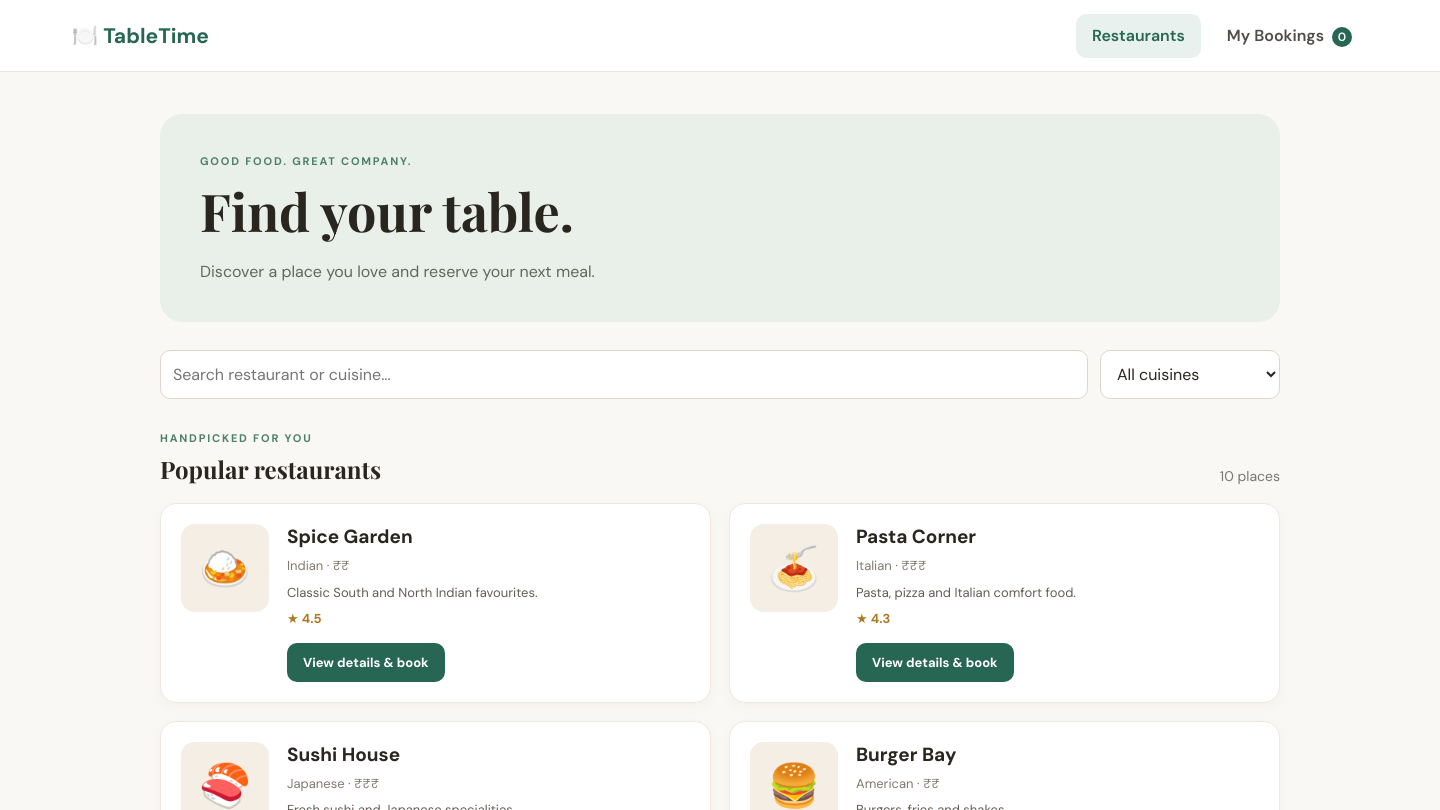
it: Restaurant Reservation Components › confirms a valid reservation and shows it in My Bookings
Click the button "View details & book" below "Spice Garden". click: click(366, 662)
box: [287, 642, 445, 682]
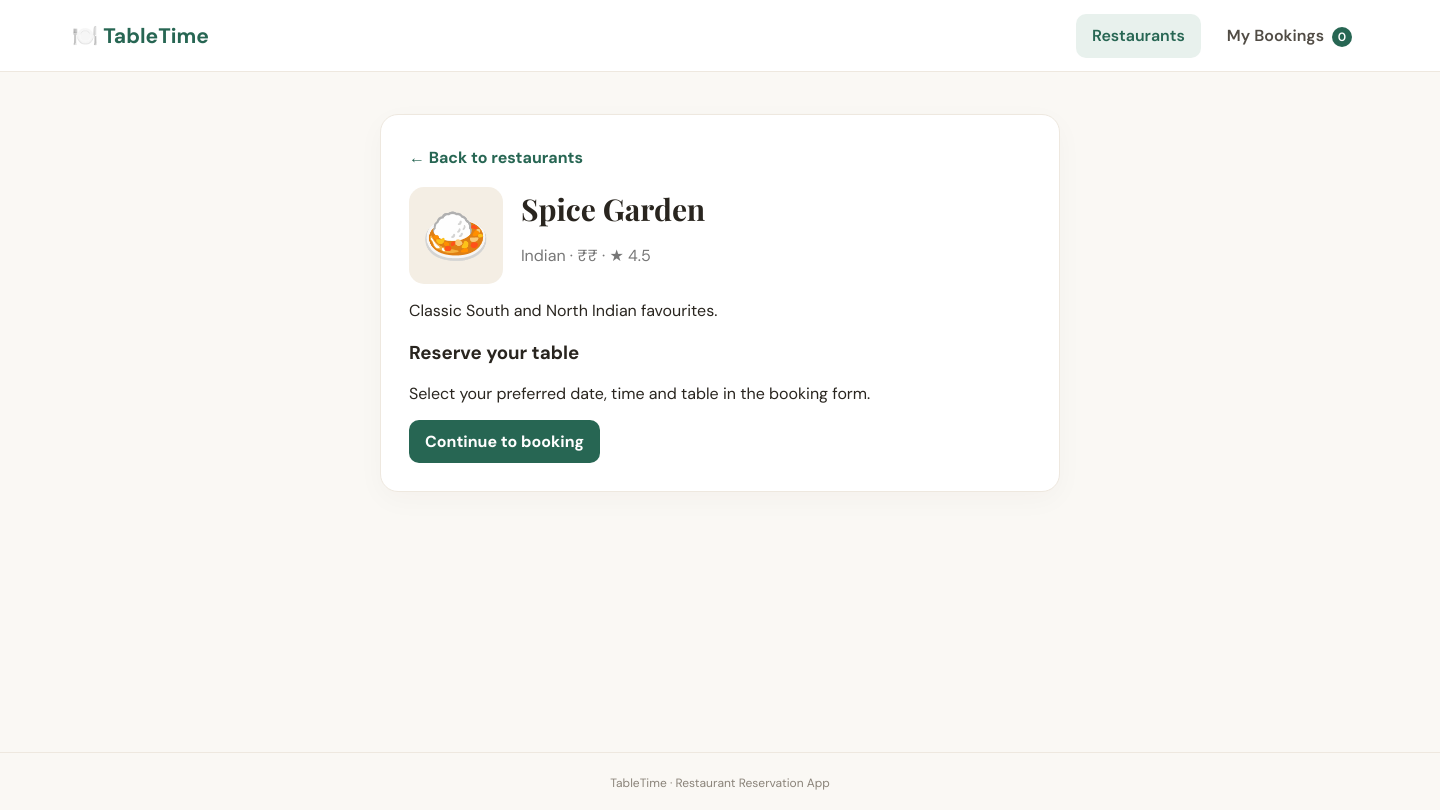
Click the button "Continue to booking". click: click(505, 442)
box: [409, 420, 600, 463]
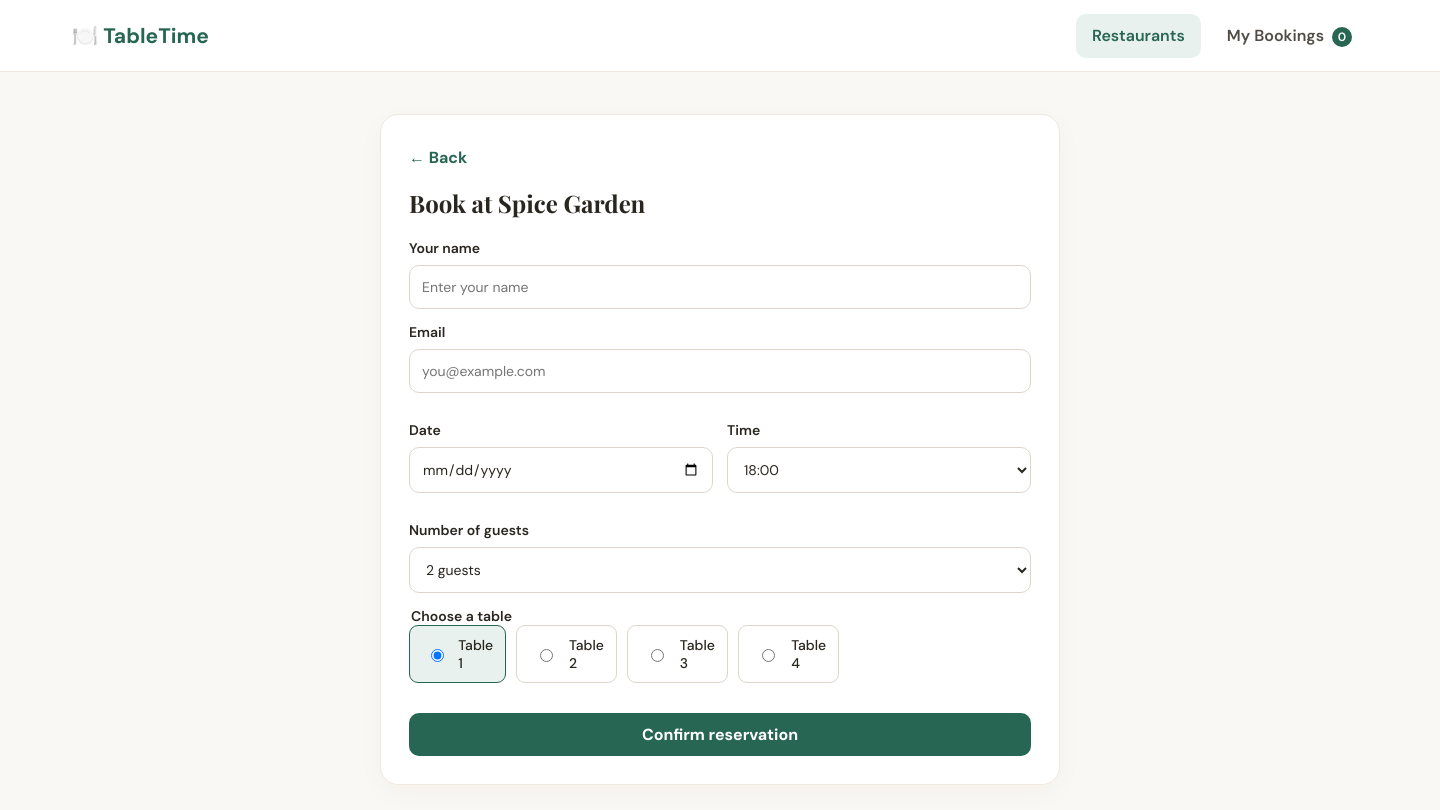
Type "Mika" into the field with placeholder "Enter your name". click: (720, 287)
box: [409, 265, 1031, 309]
Type "mika@example.com" into the field with placeholder "you@example.com". click: (720, 371)
box: [409, 349, 1031, 393]
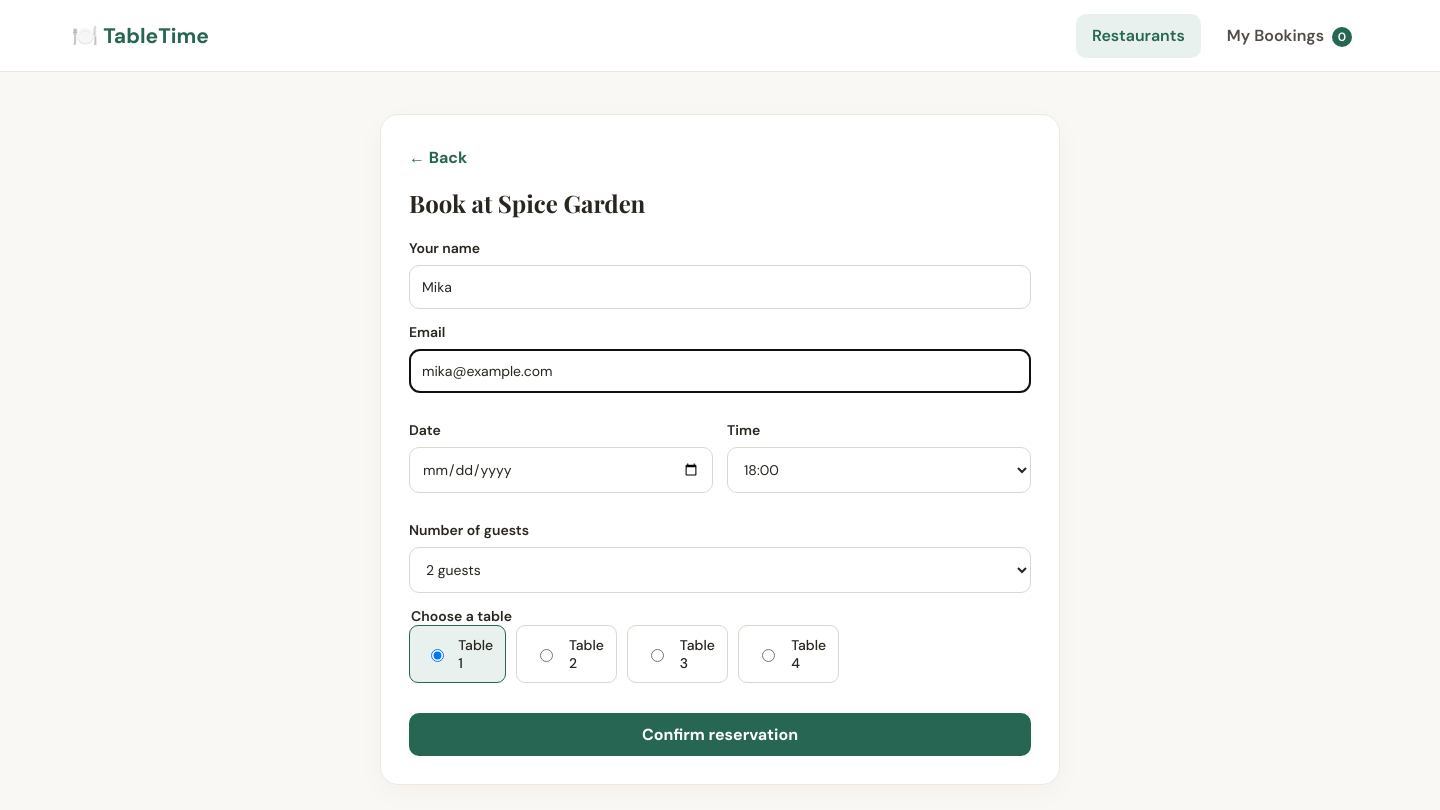
Type "2099-12-25" into the date field labelled "Date". click: (561, 470)
box: [409, 447, 713, 493]
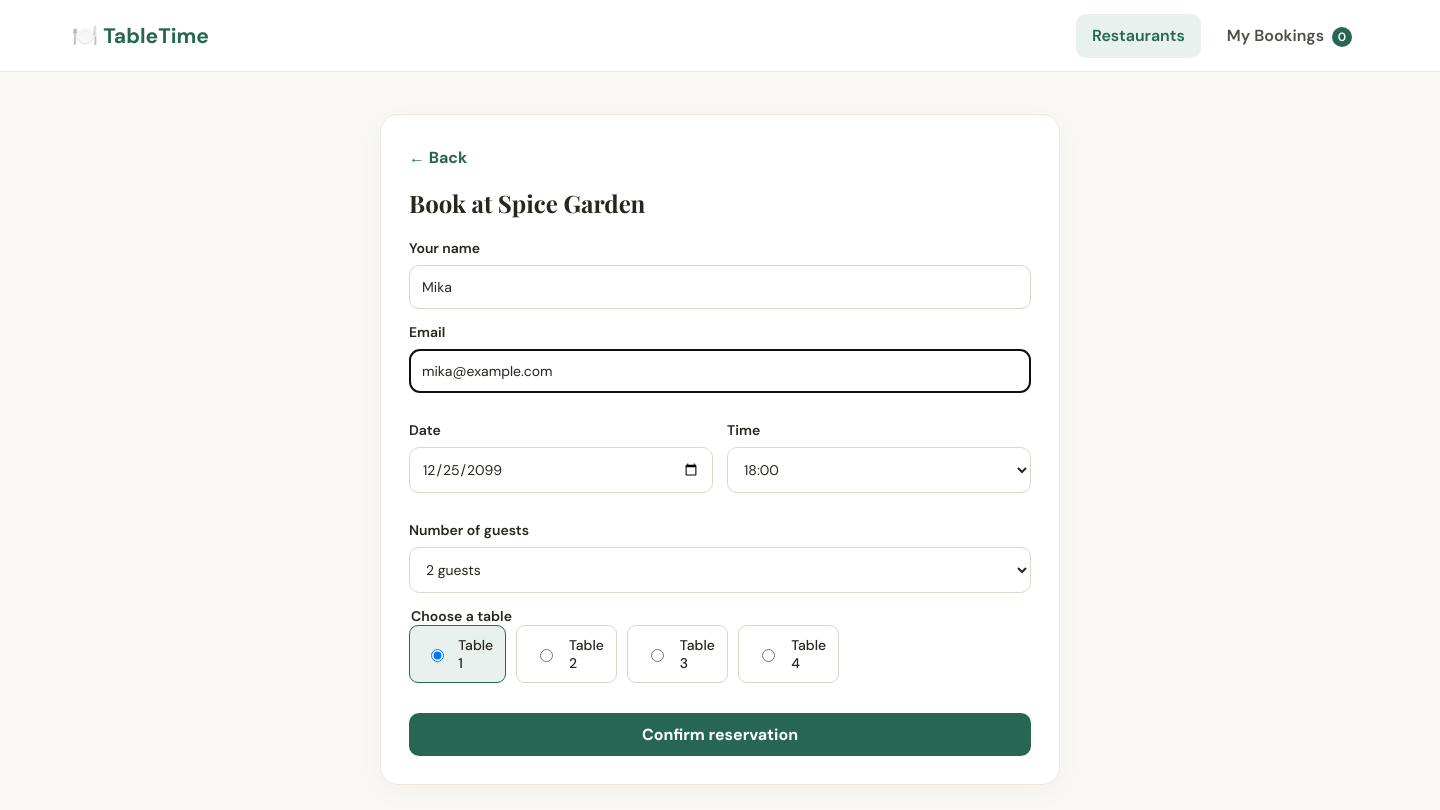
Click the button "Confirm reservation". click: click(720, 734)
box: [409, 713, 1031, 756]
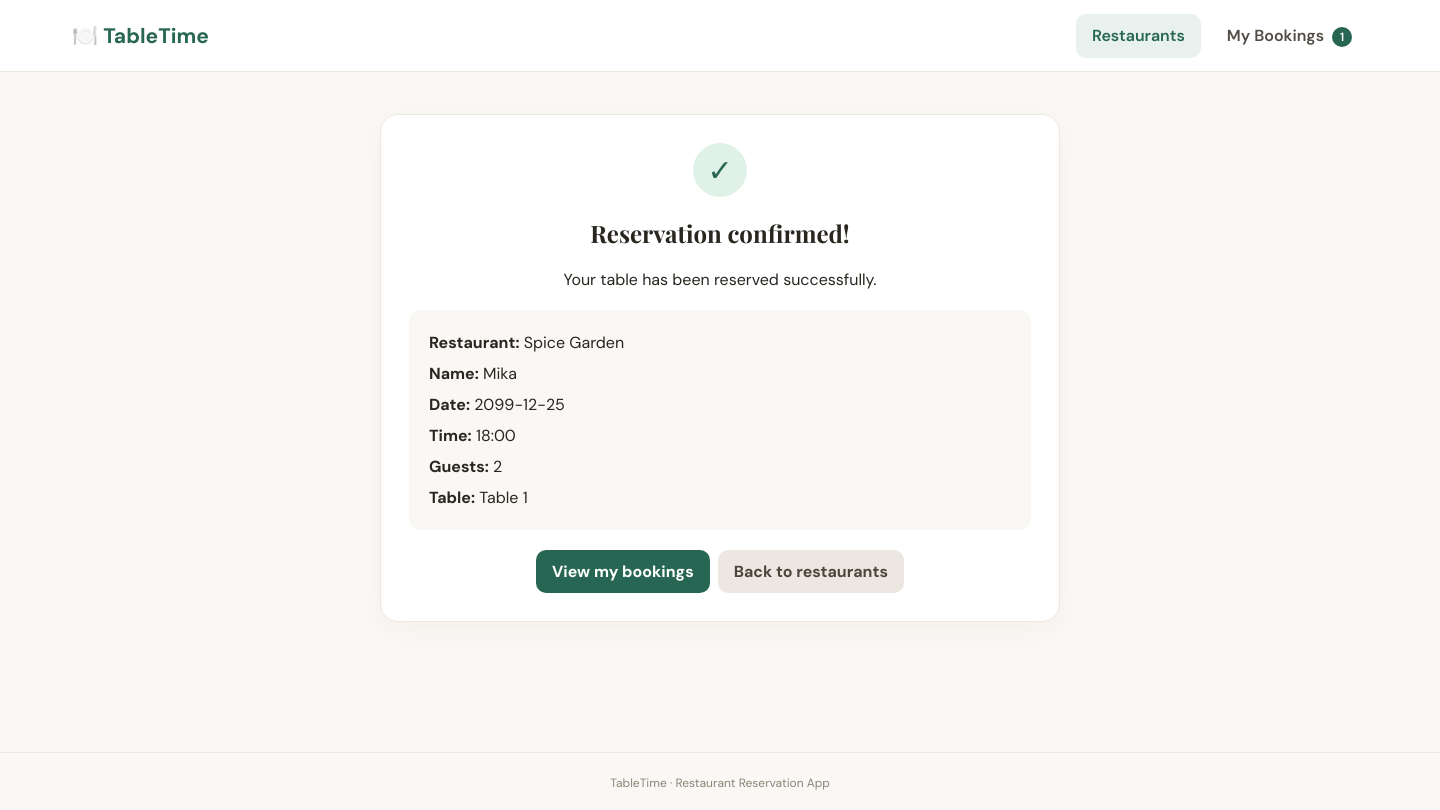
Check: the heading "Reservation confirmed!" is shown, box [590, 217, 850, 249]
Click the button "View my bookings". click: click(623, 571)
box: [536, 550, 710, 593]
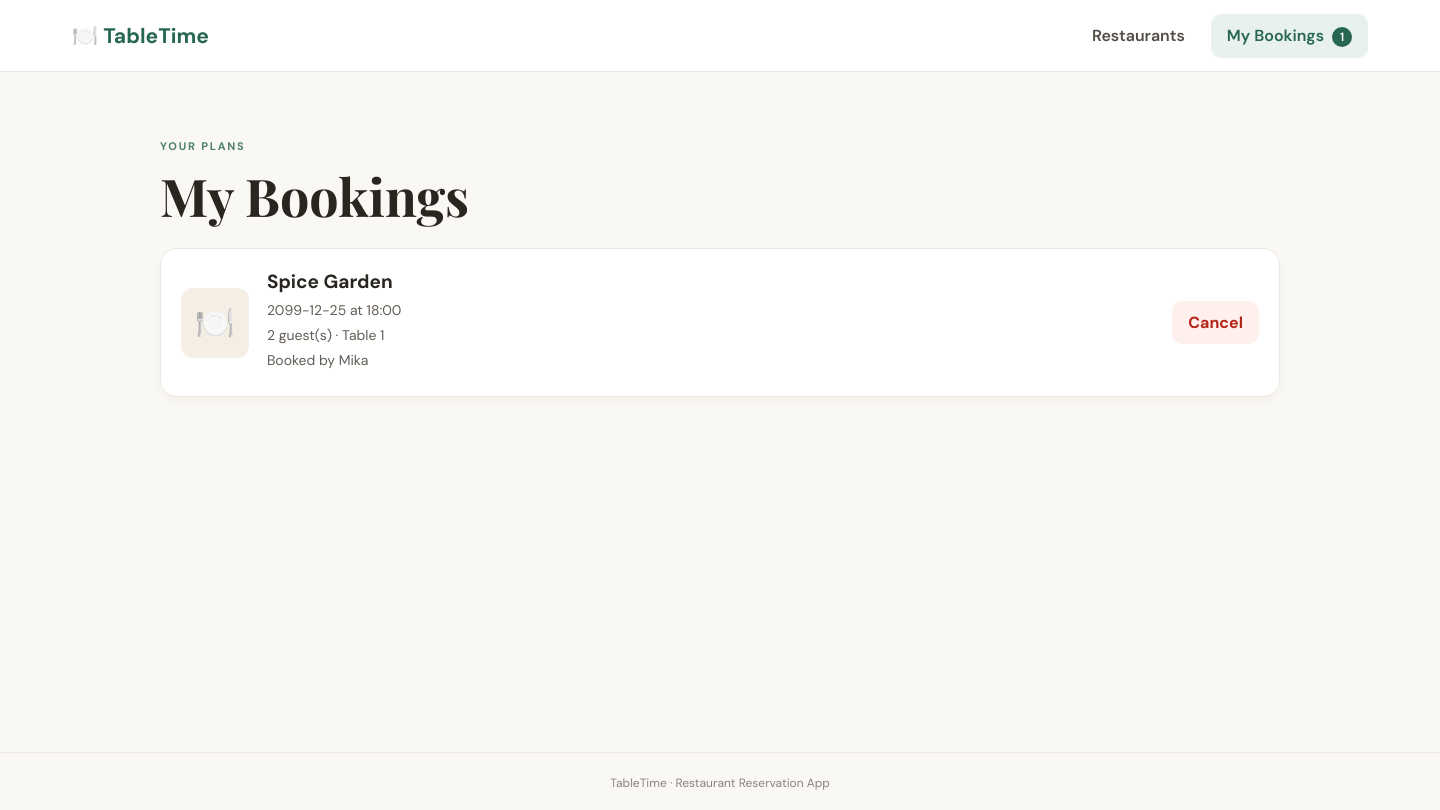
Check: the heading "My Bookings" is shown, box [160, 161, 469, 230]
Check: the heading "Spice Garden" is shown, box [267, 269, 393, 294]
Check: the text "Booked by Mika" is shown, box [267, 351, 368, 369]
